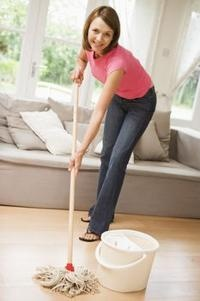person without safety: (68, 5, 159, 241)
